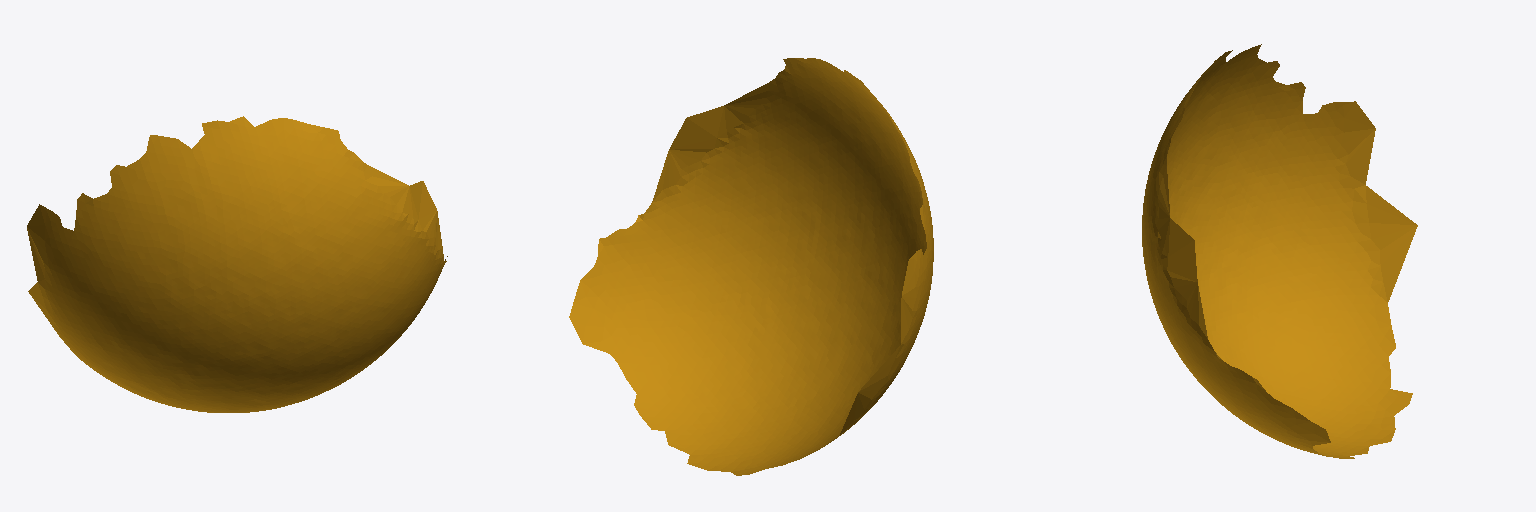
Rendered from ProjectorFocus_P10.000001.obj.
The picture shows the model from 3 angles: view 1: azimuth 30°, elevation 25°; view 2: azimuth 150°, elevation 25°; view 3: azimuth 270°, elevation 25°; orthographic projection.
Parts seen in each view (by area): view 1: ProjectorFocus_P10.000001; view 2: ProjectorFocus_P10.000001; view 3: ProjectorFocus_P10.000001.
Boxes of the visible parts, box(x1,y1,x2,y2) form: ProjectorFocus_P10.000001: box(27, 116, 447, 412); ProjectorFocus_P10.000001: box(569, 58, 933, 475); ProjectorFocus_P10.000001: box(1142, 44, 1417, 458).
Size of the model in its own units: 145 by 133 by 95.25.